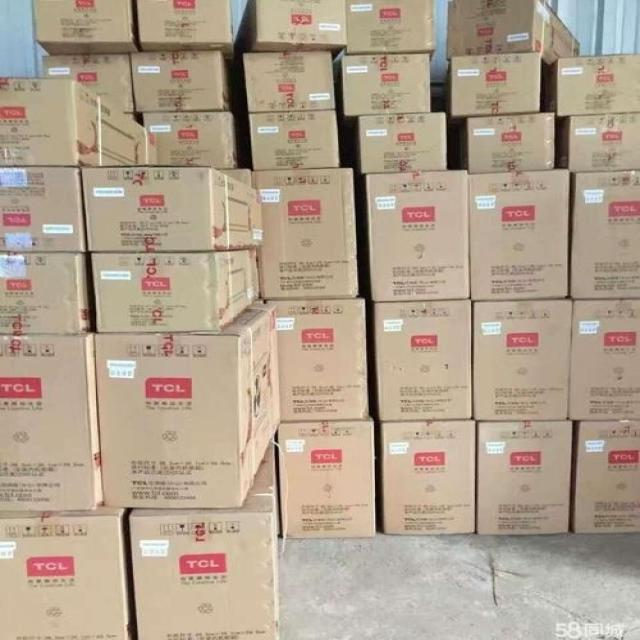box: (93, 306, 279, 509), (128, 436, 282, 640), (0, 333, 102, 510), (0, 505, 133, 640), (81, 166, 261, 250), (90, 249, 260, 332), (252, 169, 360, 299), (0, 78, 157, 165), (468, 169, 570, 301), (366, 171, 468, 302), (262, 298, 369, 421), (472, 299, 573, 420), (372, 299, 472, 420), (278, 417, 376, 539), (380, 419, 476, 535), (477, 420, 572, 534), (570, 170, 640, 298), (447, 0, 580, 64), (570, 299, 640, 420), (573, 420, 640, 533), (0, 251, 92, 333), (0, 166, 86, 251), (445, 52, 541, 122), (236, 0, 347, 59), (131, 50, 230, 113), (458, 112, 556, 174), (549, 53, 640, 119), (137, 0, 236, 60), (33, 0, 138, 55), (243, 51, 337, 112), (250, 109, 339, 171), (143, 111, 238, 169), (342, 54, 431, 115), (360, 112, 447, 174), (44, 55, 134, 113), (344, 0, 436, 55), (557, 113, 640, 172)
